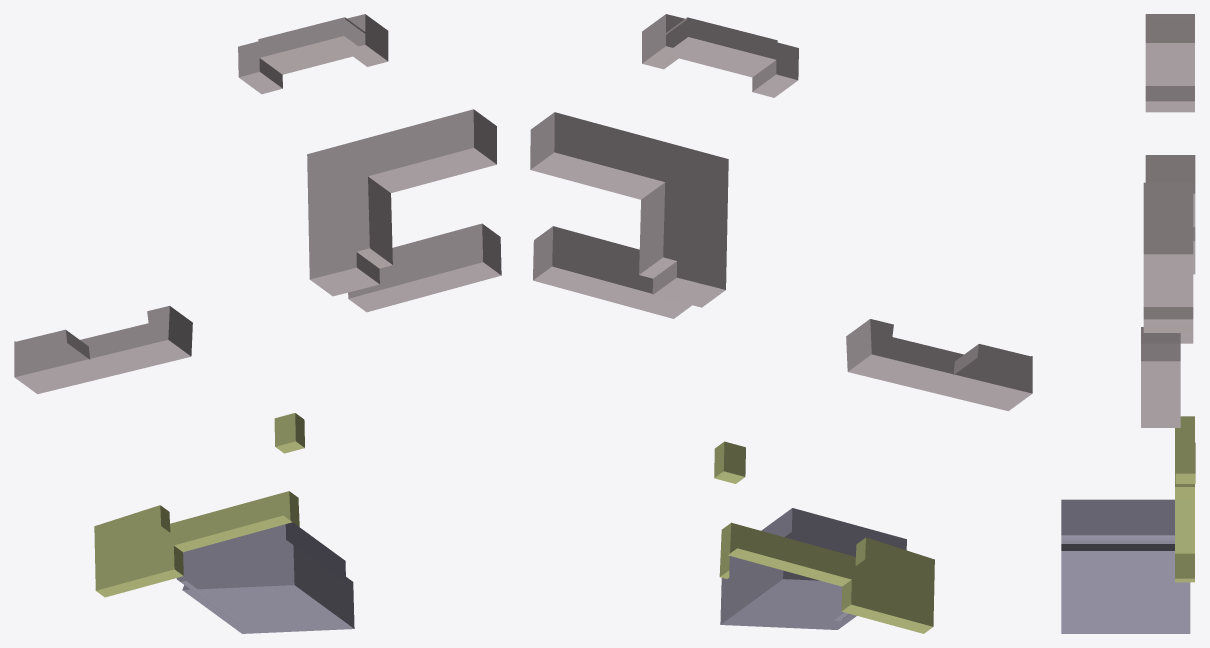
The picture shows the model from 3 angles, left to right: view 1: azimuth 30°, elevation 25°; view 2: azimuth 150°, elevation 25°; view 3: azimuth 270°, elevation 25°; orthographic projection. The views are drawn at different scales.
Parts seen in each view (by area): view 1: 0_3_2_0_2_2_3; view 2: 0_3_2_0_2_2_3; view 3: 0_3_2_0_2_2_3.
Boxes of the visible parts, <box> form: 0_3_2_0_2_2_3: <box>14,14,501,633</box>; 0_3_2_0_2_2_3: <box>530,14,1032,633</box>; 0_3_2_0_2_2_3: <box>1061,14,1195,633</box>.
Size of the model in its own units: 173 by 199 by 40.52.
